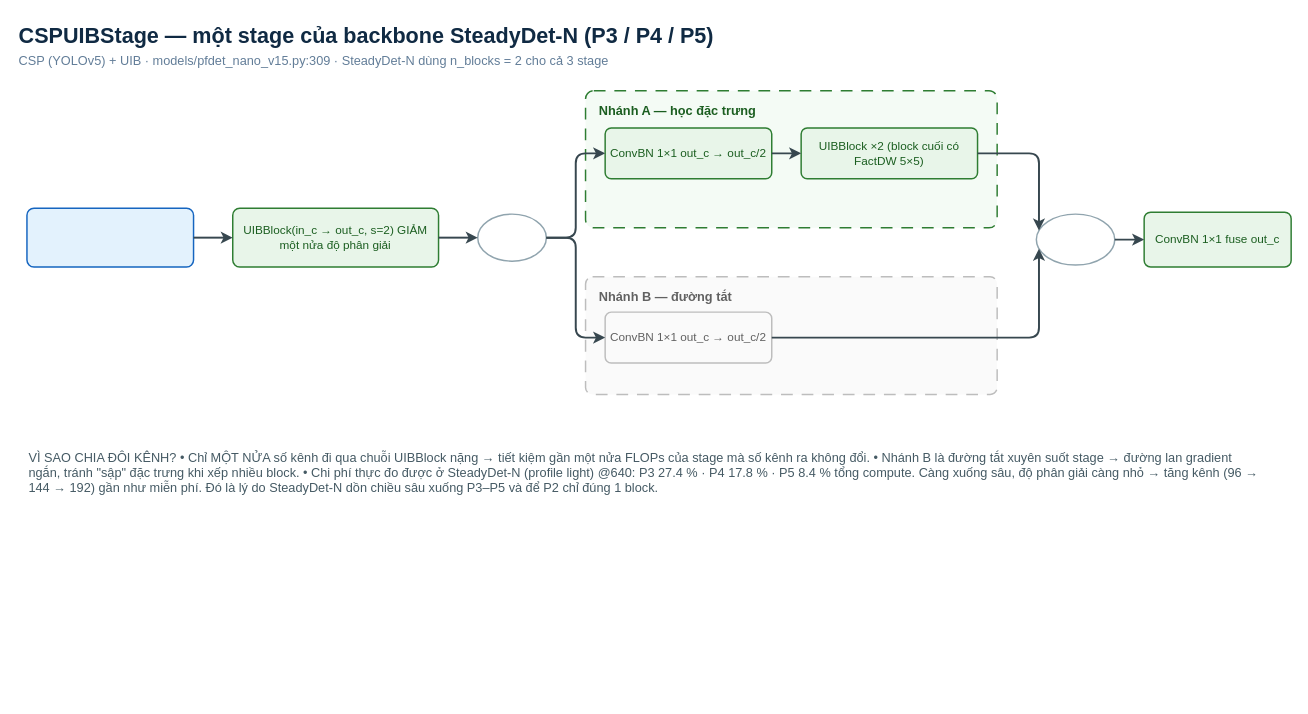
This 1308x714 diagram has some shape labels left out. Here are the shapes that lost their labels. From the top down, the centre of each, then its label:
the point at 110,237: vào in_c × H × W
the point at 512,237: chia
the point at 1075,239: concat out_c
